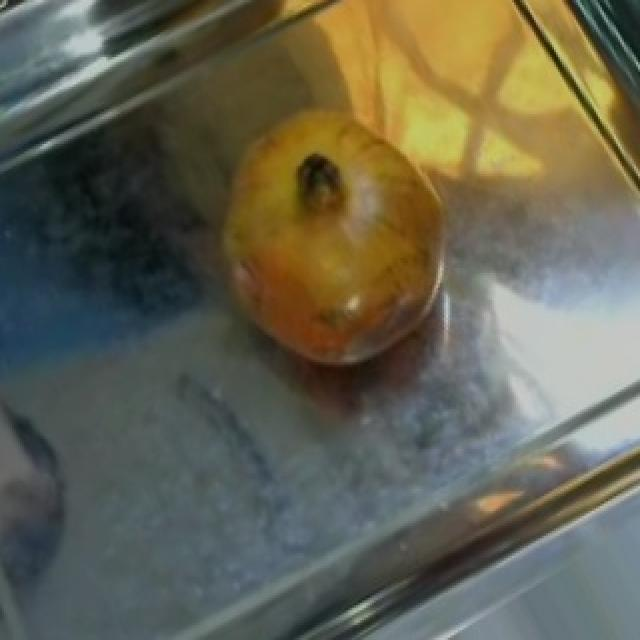fruit: (232, 102, 480, 377)
